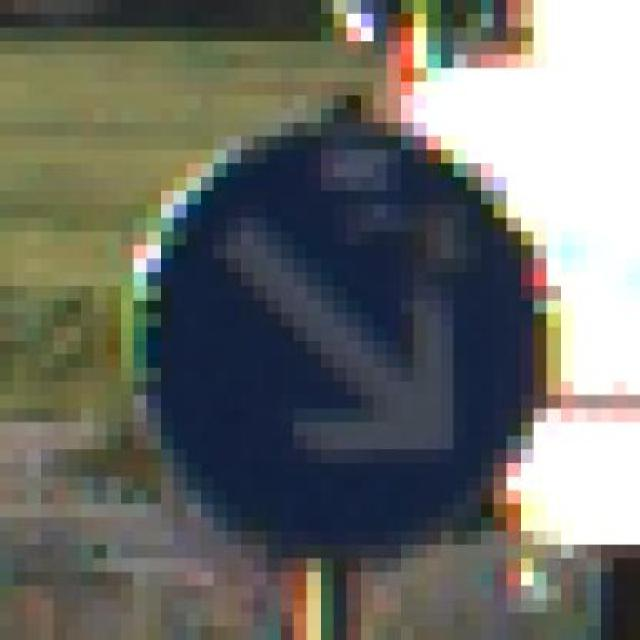Keep-Right: (79, 95, 587, 599)
